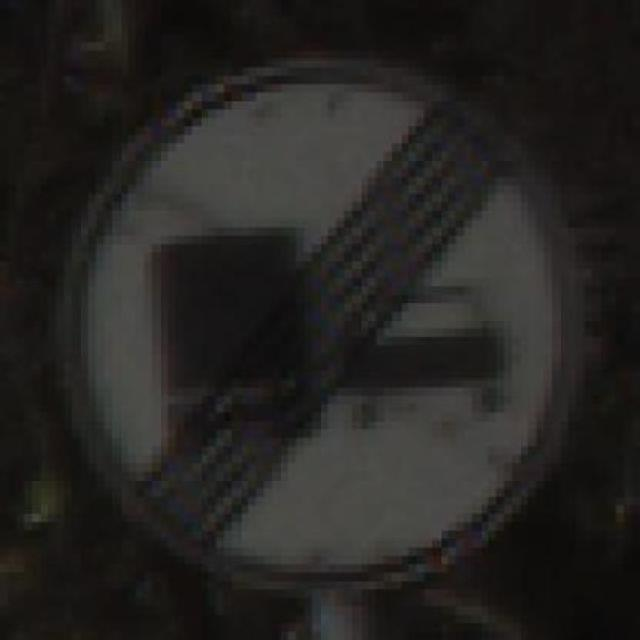Overtaking by trucks is prohibited: (31, 42, 608, 606)
